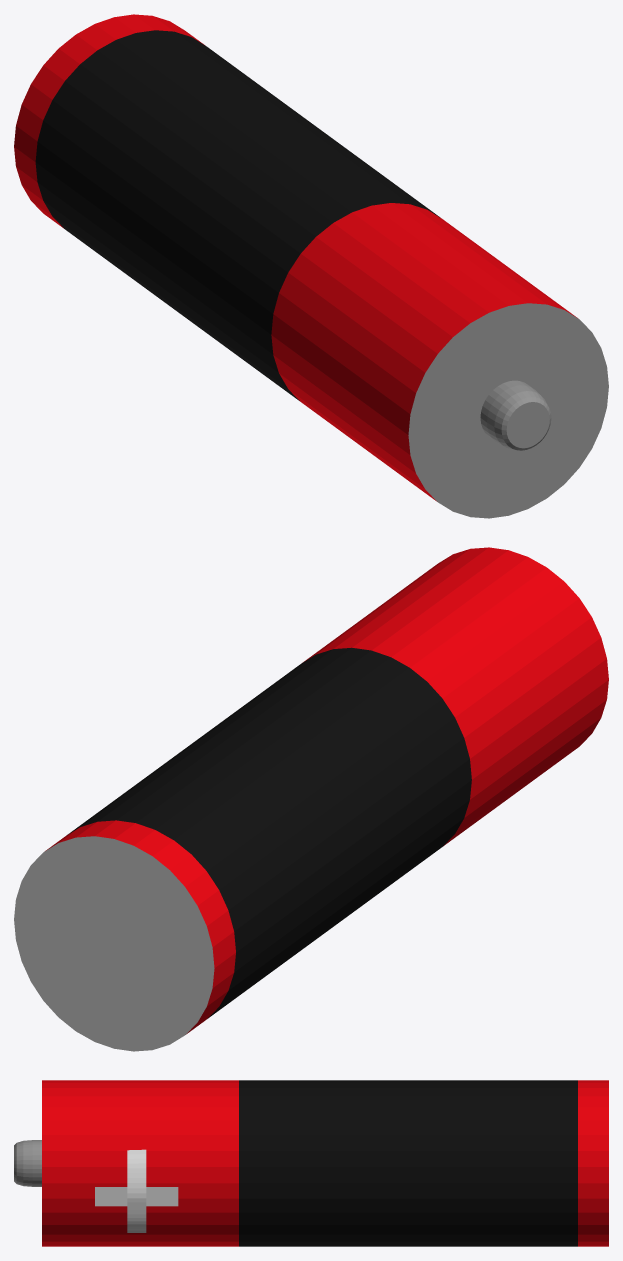
The model's file is pencil batteryyyy.gltf.
The picture shows the model from 3 angles, top to bottom: view 1: azimuth 30°, elevation 25°; view 2: azimuth 150°, elevation 25°; view 3: azimuth 270°, elevation 25°; orthographic projection. The views are drawn at different scales.
Parts seen in each view (by area): view 1: Cylinder; view 2: Cylinder; view 3: Cylinder.
Part boxes in pixels (left/top/right/bottom): Cylinder: left=14, top=14, right=608, bottom=518; Cylinder: left=14, top=547, right=608, bottom=1051; Cylinder: left=14, top=1080, right=608, bottom=1246.
Bounding box in the file's own units: 2.46 × 2.42 × 8.66.
